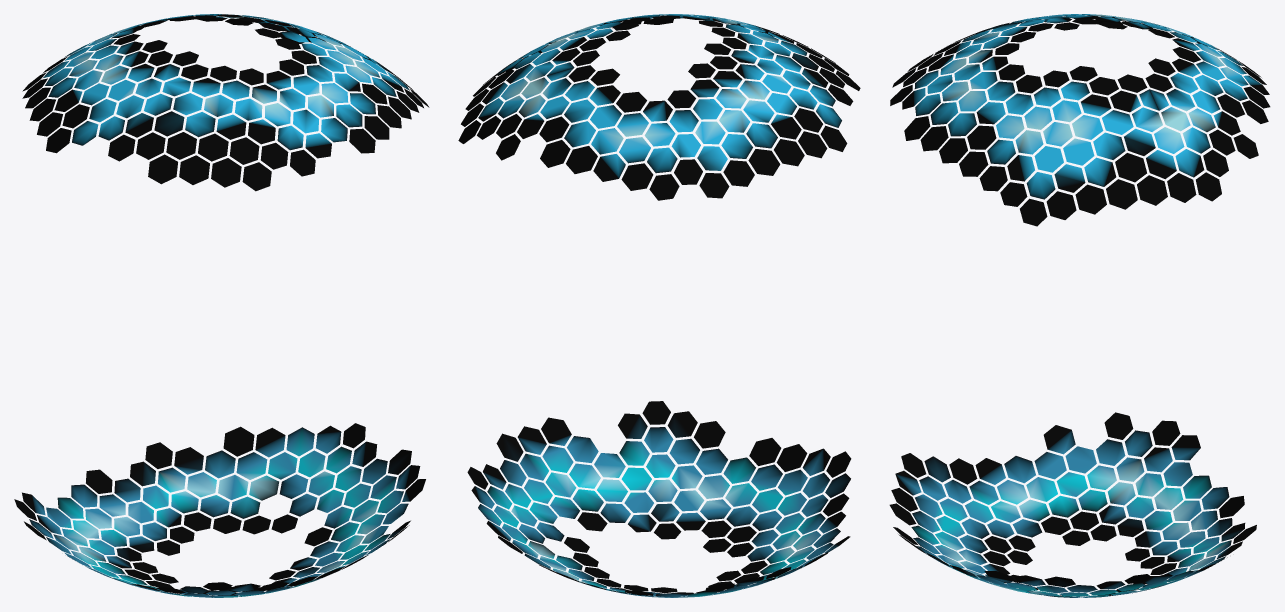
Rendered from uv_earth.fbx.
3 renders of one model, left to right at view 1: azimuth 30°, elevation 25°; view 2: azimuth 150°, elevation 25°; view 3: azimuth 270°, elevation 25°, orthographic.
Parts seen in each view (by area): view 1: uv_earth; view 2: uv_earth; view 3: uv_earth.
Part boxes in pixels (<box>): uv_earth: <box>14,14,429,597</box>; uv_earth: <box>458,14,860,597</box>; uv_earth: <box>889,14,1270,597</box>.
Bounding box in the file's own units: 143 × 198 × 131.
